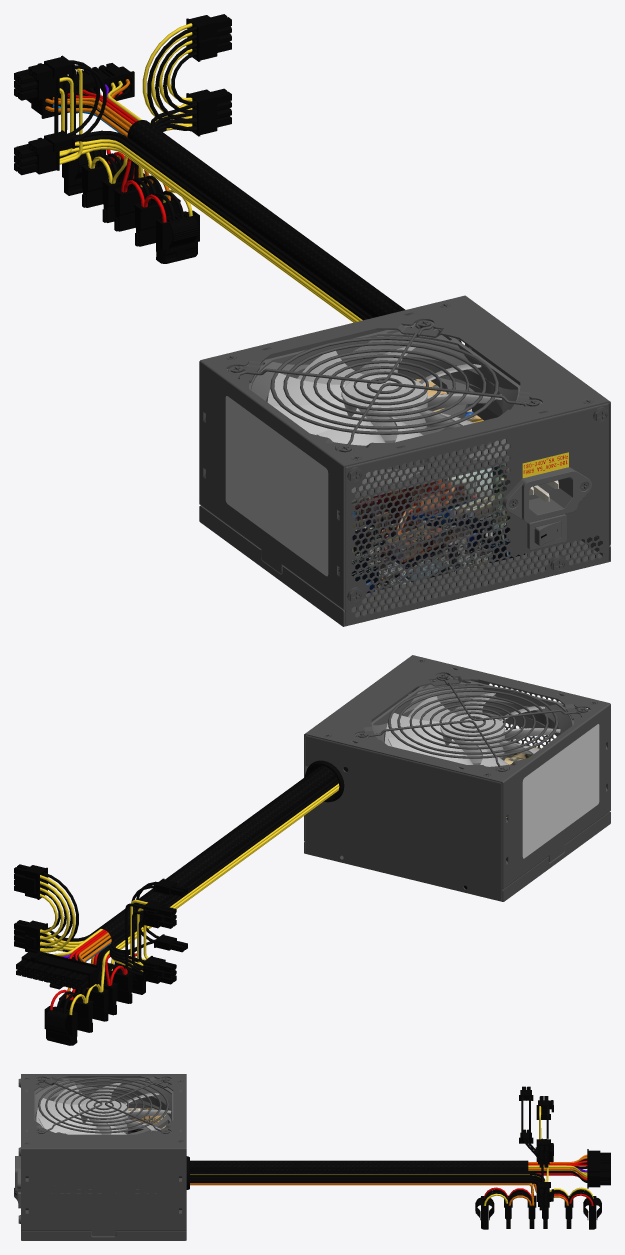
File: psu.glb
The picture shows the model from 3 angles, top to bottom: view 1: azimuth 30°, elevation 25°; view 2: azimuth 150°, elevation 25°; view 3: azimuth 270°, elevation 25°; orthographic projection. The views are drawn at different scales.
Visible parts, largest first — view 1: power (×25), Fan for power (×2), power #1 #1, power #1; view 2: power (×20), Fan for power (×2), power #1 #1, power #1; view 3: power (×23), Fan for power (×3), power #1 #1, power #1.
Boxes of the visible parts, x1,y1,x2,y2 form: power (×25): (14,14,610,626); Fan for power (×2): (226,321,542,501); power #1 #1: (270,336,498,434); power #1: (283,342,486,429); power (×20): (14,655,610,1045); Fan for power (×2): (354,674,590,768); power #1 #1: (388,685,558,758); power #1: (397,689,548,754); power (×23): (21,1074,610,1240); Fan for power (×3): (34,1078,173,1134); power #1 #1: (38,1077,168,1133); power #1: (45,1080,161,1130).
Bounding box in the file's own units: 0.1912 × 0.1095 × 0.5064.
25 materials, 3 textured.
